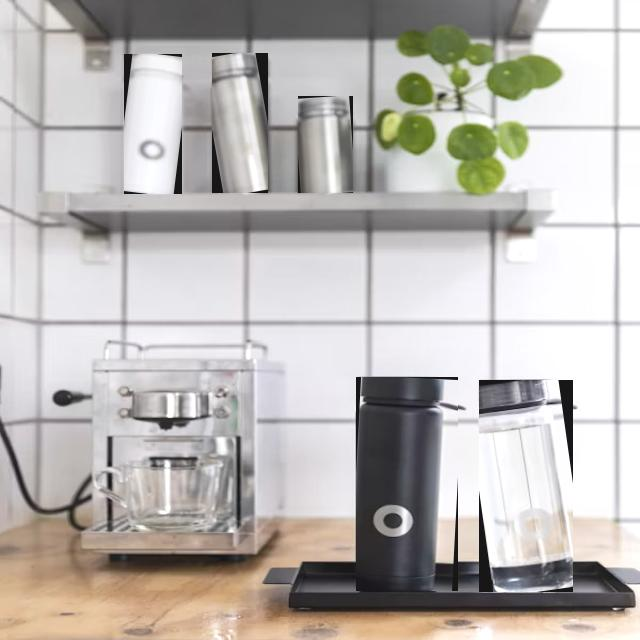Bottle: (478, 380, 571, 592), (356, 378, 439, 591), (123, 55, 181, 193), (212, 53, 266, 192), (297, 97, 352, 192)
